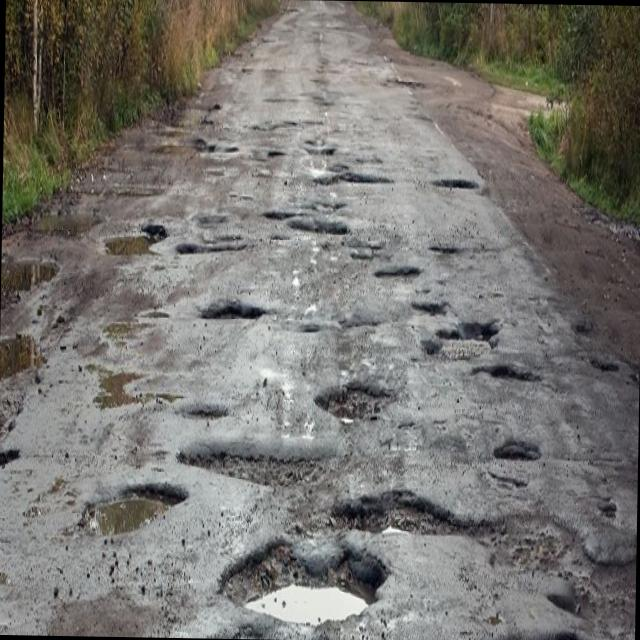Potholes: (331, 477, 637, 640), (176, 423, 361, 542), (209, 522, 380, 640), (258, 181, 428, 295), (75, 469, 192, 574), (314, 347, 400, 449), (483, 325, 544, 467), (172, 196, 260, 284), (422, 285, 508, 360), (200, 274, 267, 332), (432, 150, 496, 202)
